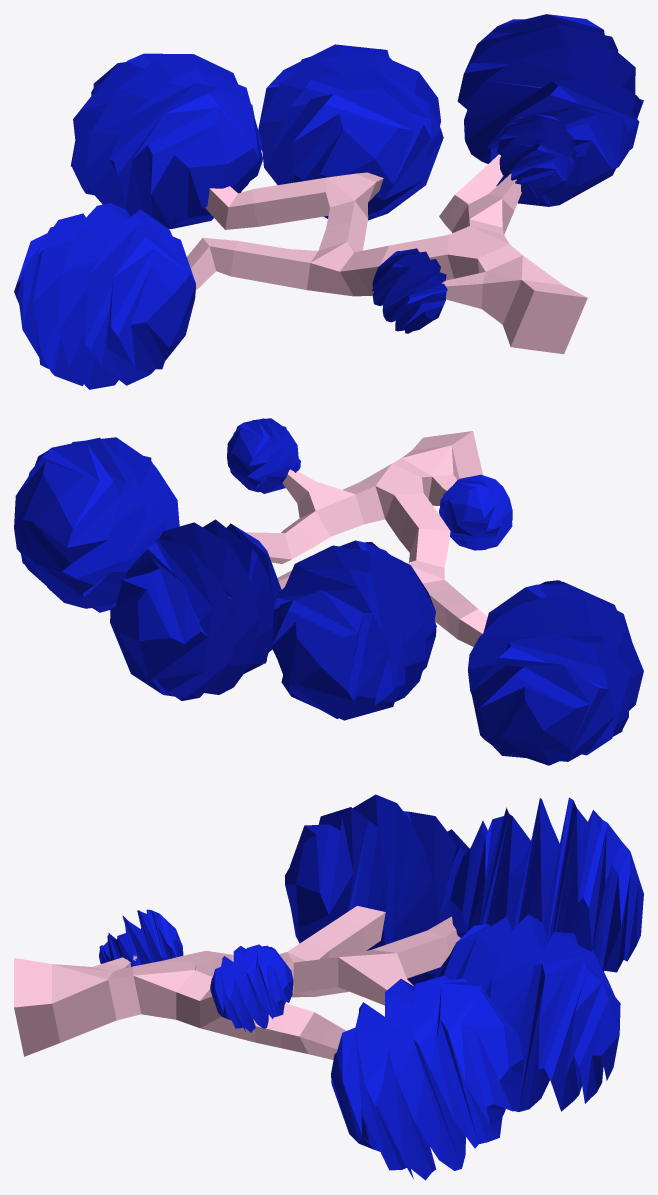
File: tree5.fbx
3 views of the same model, one above another, from view 1: azimuth 30°, elevation 25°; view 2: azimuth 150°, elevation 25°; view 3: azimuth 270°, elevation 25° (orthographic). The views are drawn at different scales.
Parts seen in each view (by area): view 1: Cube; view 2: Cube; view 3: Cube.
Part boxes in pixels (<box>): Cube: <box>14,14,643,389</box>; Cube: <box>14,418,643,765</box>; Cube: <box>14,794,643,1180</box>.
Size of the model in its own units: 619 by 228 by 505.
